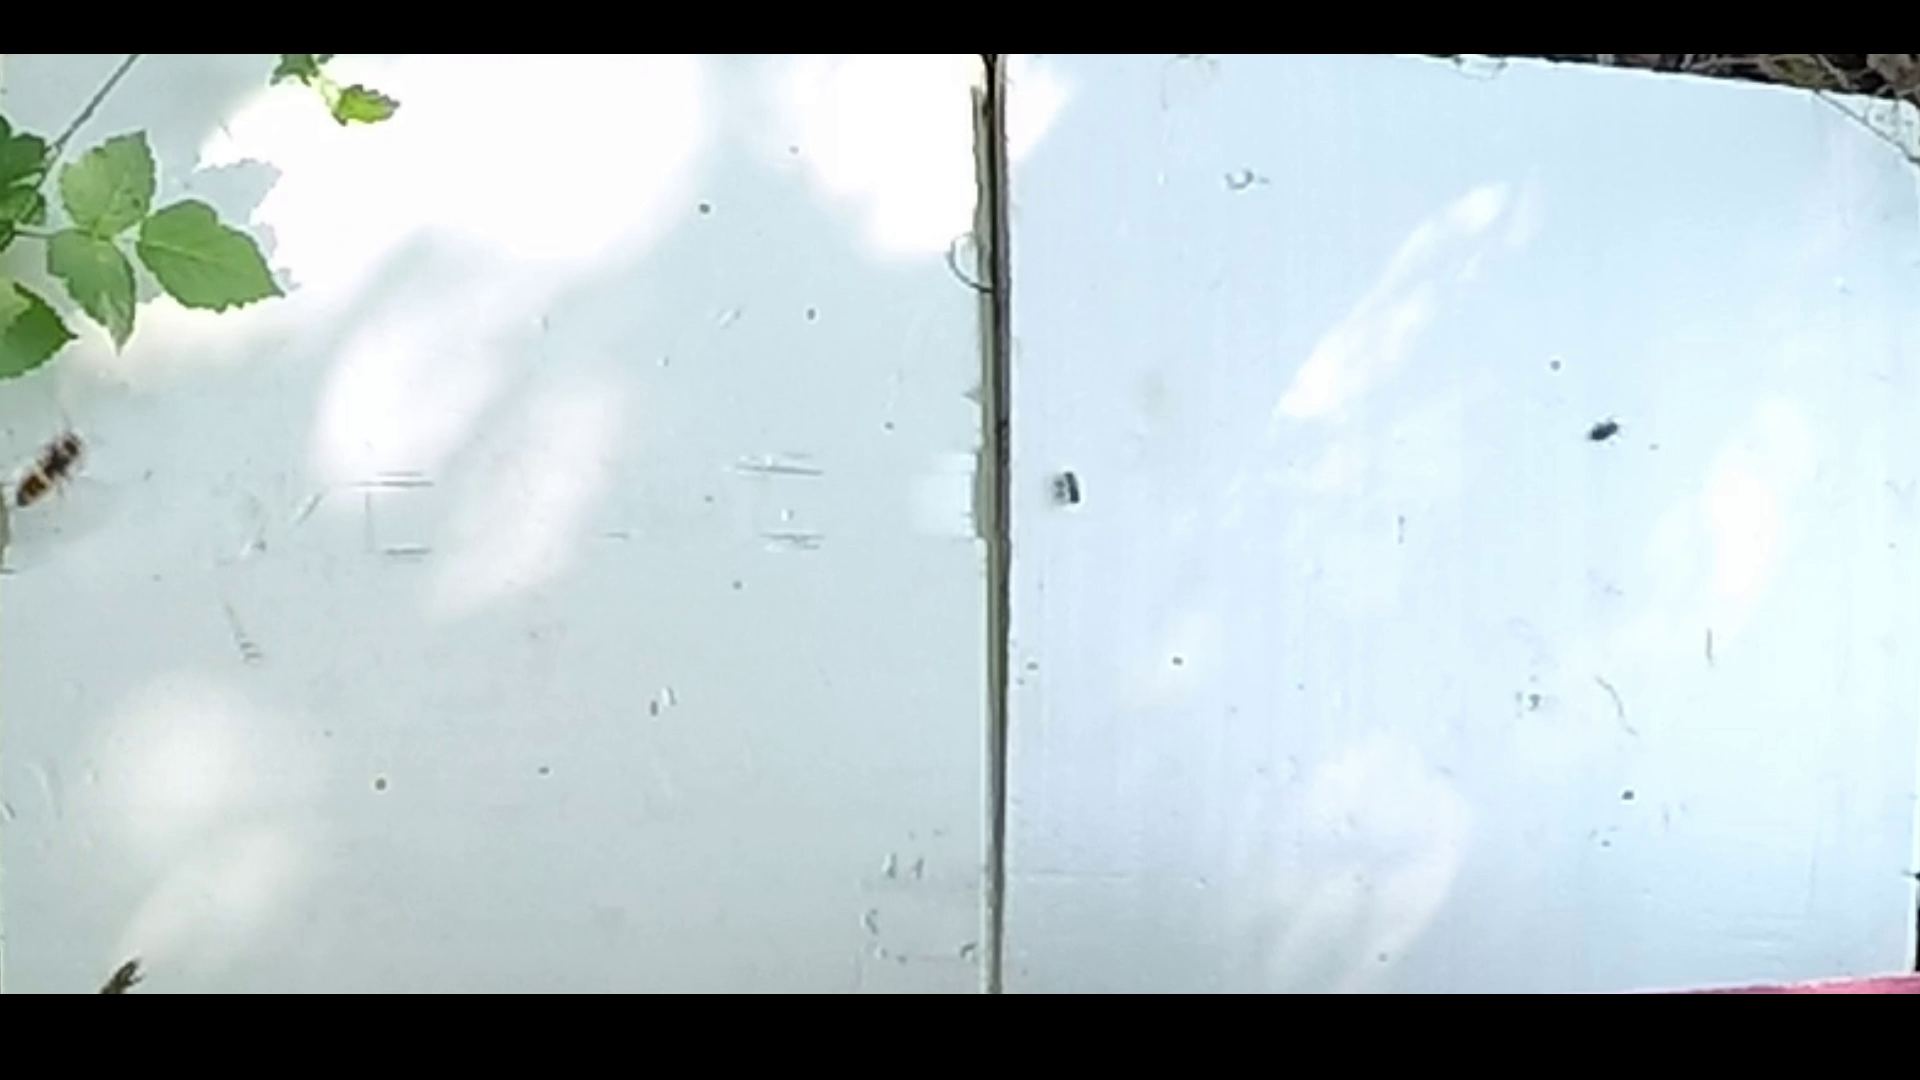Asian_hornets: (5, 410, 109, 535)
